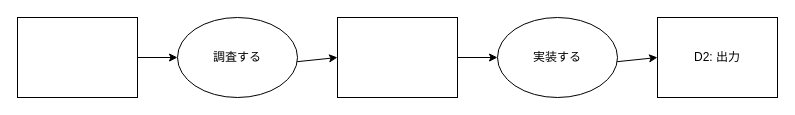
Some shapes in this 795 by 115 pixel diagram are drawn without their labels. The centre of each missing label's shape, as x and y in pixels:
"D1: 入力" belongs at point (77, 57).
"調査結果" belongs at point (397, 57).
